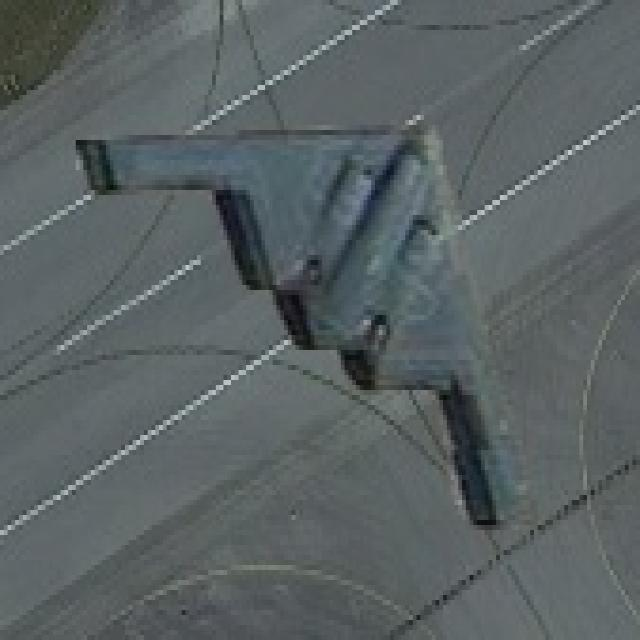B-2_TopDown: (68, 100, 534, 525)
